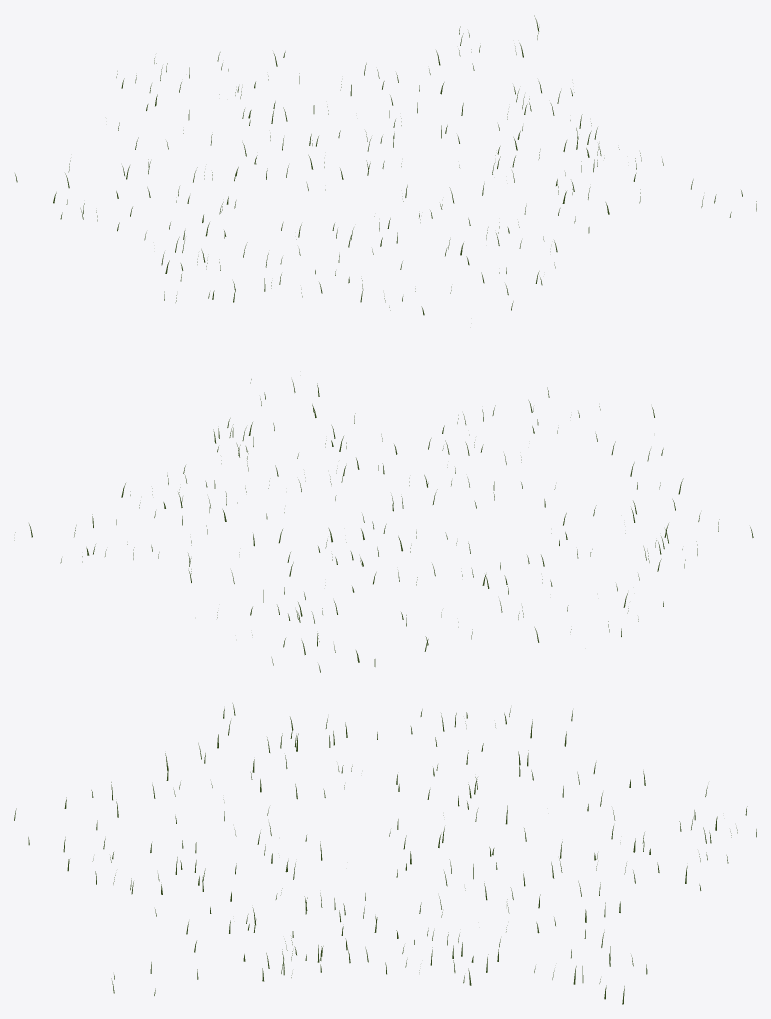
3 views of the same model, one above another, from view 1: azimuth 30°, elevation 25°; view 2: azimuth 150°, elevation 25°; view 3: azimuth 270°, elevation 25° (orthographic). The views are drawn at different scales.
Parts seen in each view (by area): view 1: GrassPatch; view 2: GrassPatch; view 3: GrassPatch.
Part boxes in pixels (x1,y1,x2,y2): GrassPatch: [15, 15, 756, 315]; GrassPatch: [14, 379, 753, 672]; GrassPatch: [14, 703, 756, 1004].
Bounding box in the file's own units: 16.25 × 0.4917 × 17.59.
